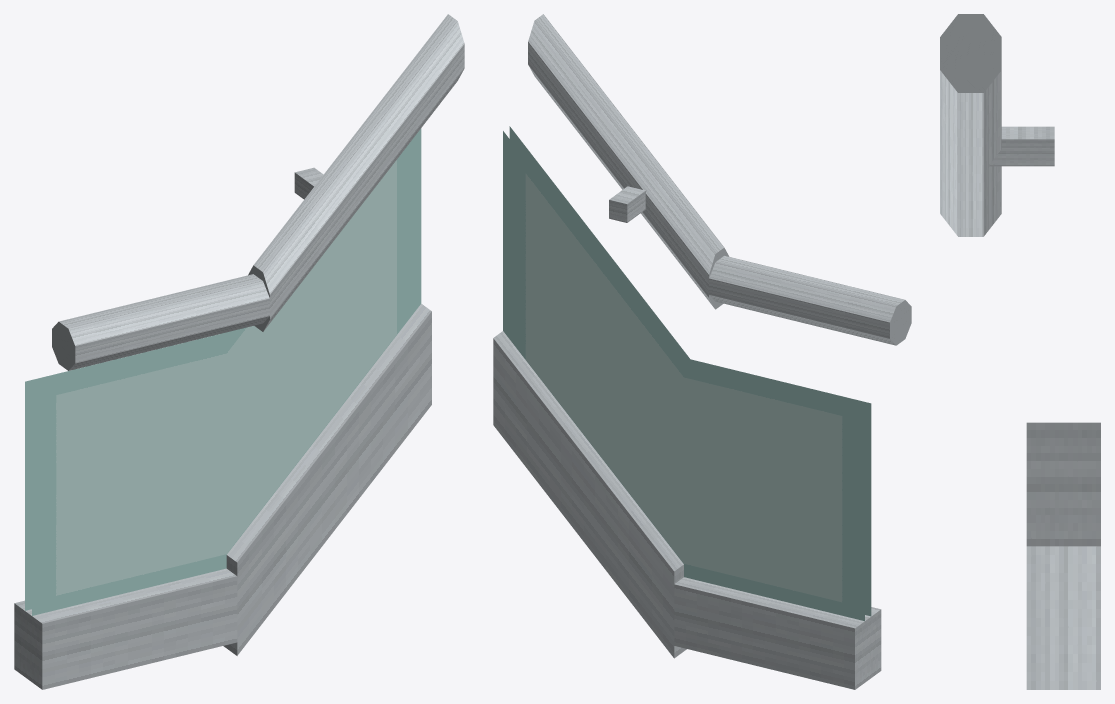
The model's file is foot_pos.obj.
3 views of the same model, side by side, from view 1: azimuth 30°, elevation 25°; view 2: azimuth 150°, elevation 25°; view 3: azimuth 270°, elevation 25° (orthographic). The views are drawn at different scales.
Visible parts, largest first — view 1: railing_glass_stainless_foot_pos; view 2: railing_glass_stainless_foot_pos; view 3: railing_glass_stainless_foot_pos.
Part boxes in pixels (x1=…): railing_glass_stainless_foot_pos: x1=14, y1=14, x2=464, y2=689; railing_glass_stainless_foot_pos: x1=493, y1=14, x2=911, y2=689; railing_glass_stainless_foot_pos: x1=940, y1=14, x2=1100, y2=689.
Size of the model in its own units: 1 by 1.49 by 0.2707.
